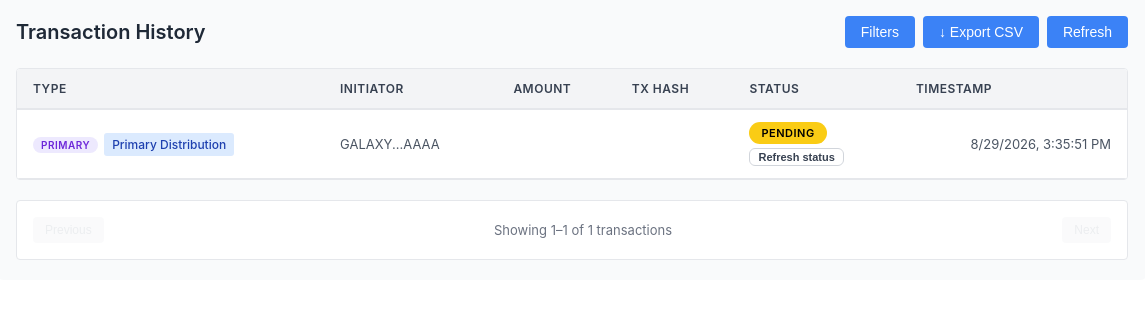
Test: TransactionHistory lifecycle status (#712) › treats a failed refresh (e.g. Horizon timeout) as 'still pending', not an error
Expected: the text "Showing 1–1 of 1 transactions" is shown, [494,222,672,238]
What coordinates should you click on to do the following:
click the button "Refresh status"
I would click on:
 (797, 157)
Its box is [749,148,844,166].
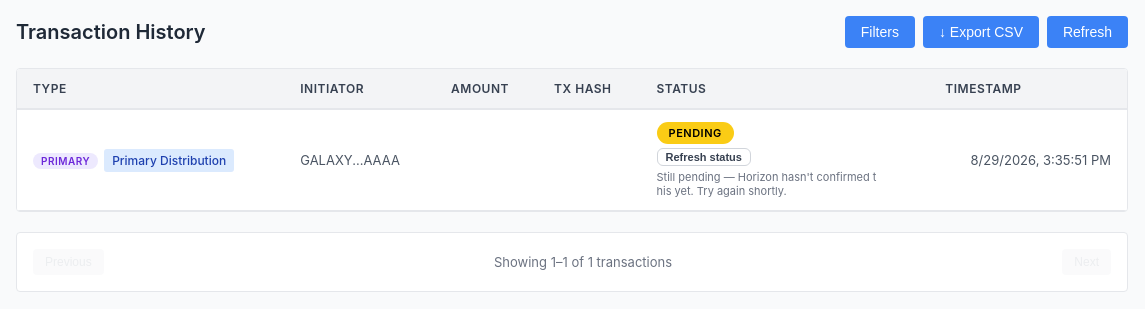
Result: the text "Still pending — Horizon hasn't confirmed this yet. Try again shortly." is shown at [656,170,876,198]
